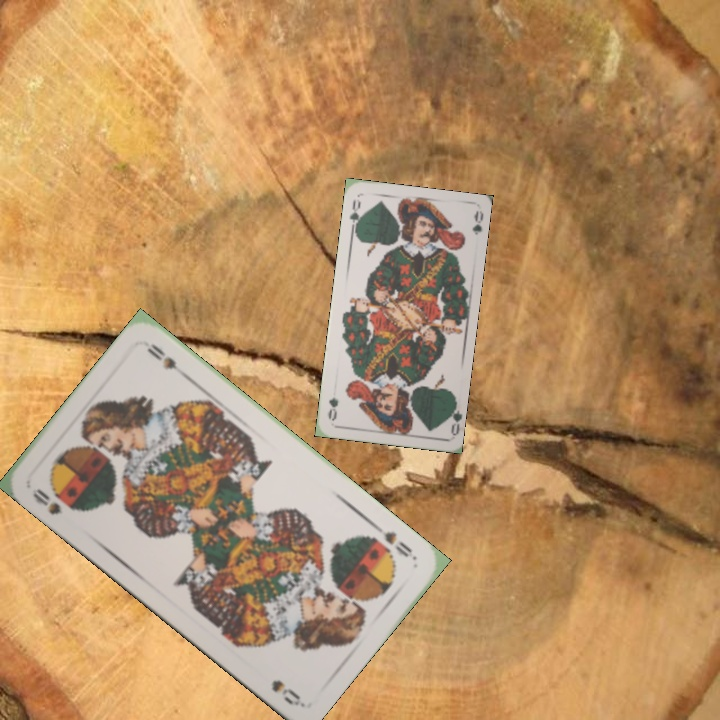GO: (441, 396, 462, 437), (345, 195, 364, 235)
SO: (369, 519, 415, 560), (28, 484, 65, 518)
